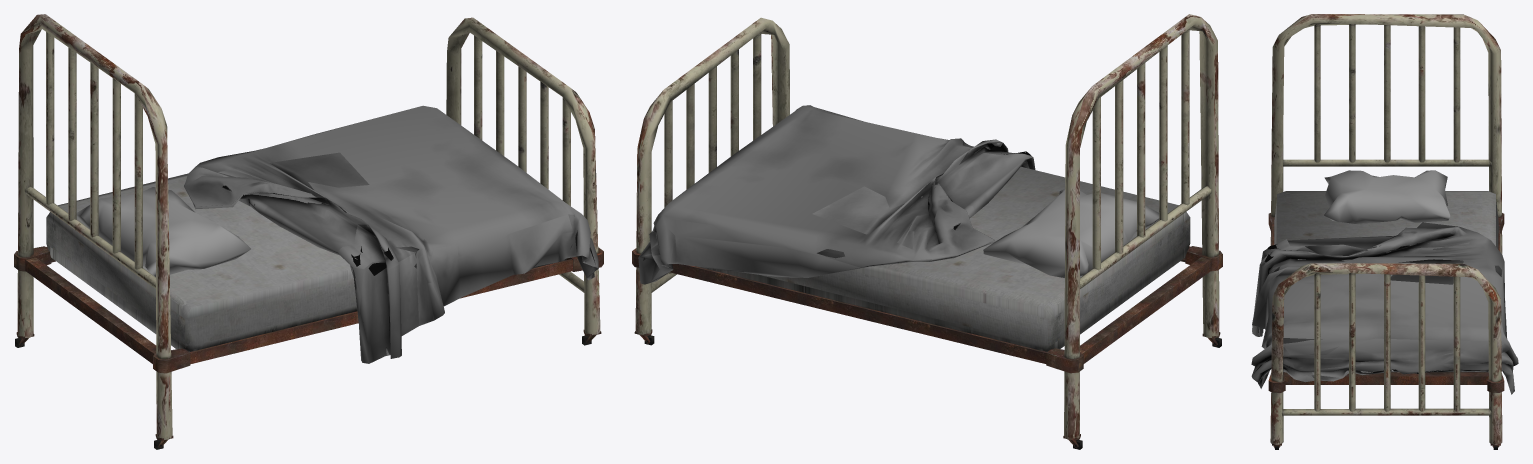
File: bed-hospital.glb
The picture shows the model from 3 angles, left to right: view 1: azimuth 30°, elevation 25°; view 2: azimuth 150°, elevation 25°; view 3: azimuth 270°, elevation 25°; orthographic projection. The views are drawn at different scales.
Parts seen in each view (by area): view 1: low_Pillow_1; view 2: low_Pillow_1; view 3: low_Pillow_1.
Boxes of the visible parts, x1,y1,x2,y2 form: low_Pillow_1: (14,14,603,449); low_Pillow_1: (632,14,1222,449); low_Pillow_1: (1251,14,1518,449).
Size of the model in its own units: 186 by 138 by 123.
3 materials, 2 textured.
